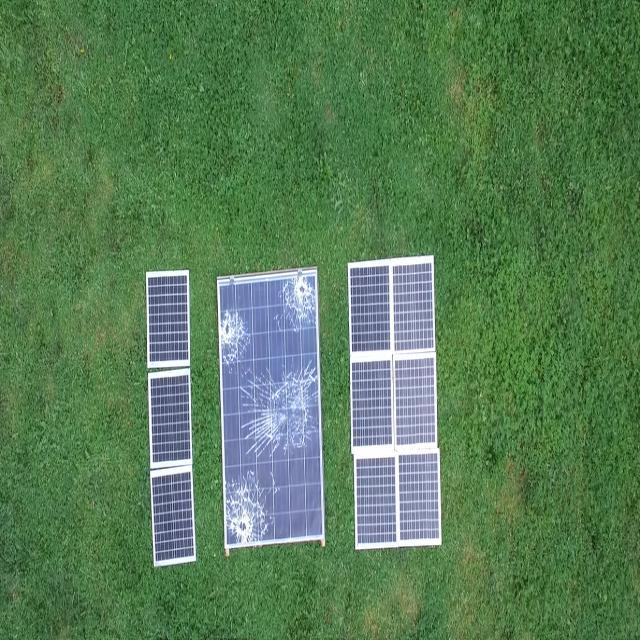faulty: (219, 276, 321, 542)
no faulty: (351, 263, 439, 547), (147, 273, 190, 364), (149, 376, 190, 466), (153, 476, 194, 562)
